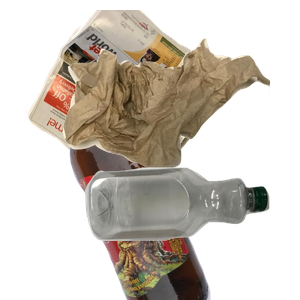glass: (65, 120, 300, 300)
paper: (23, 10, 245, 190)
plastic: (83, 165, 300, 300)
trash: (60, 36, 300, 198)
